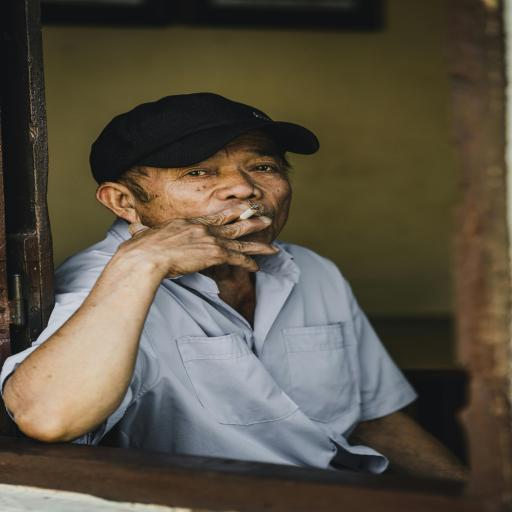terdeteksi merokok: (175, 165, 291, 266)
